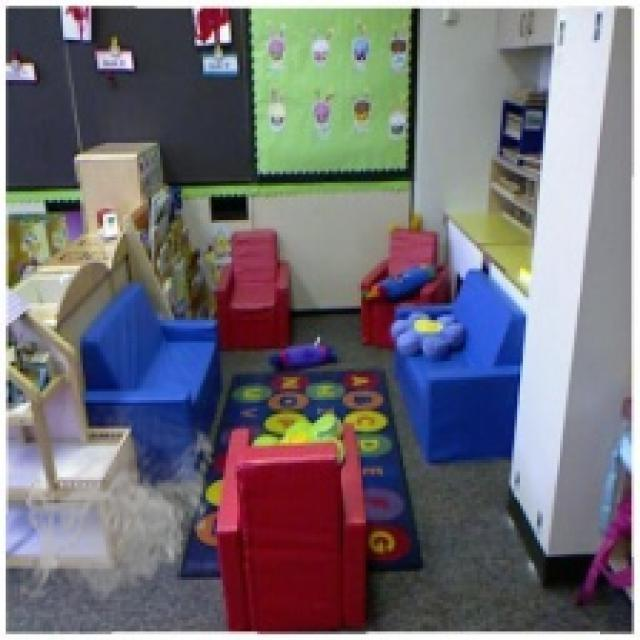Smoke: (20, 406, 220, 606)
